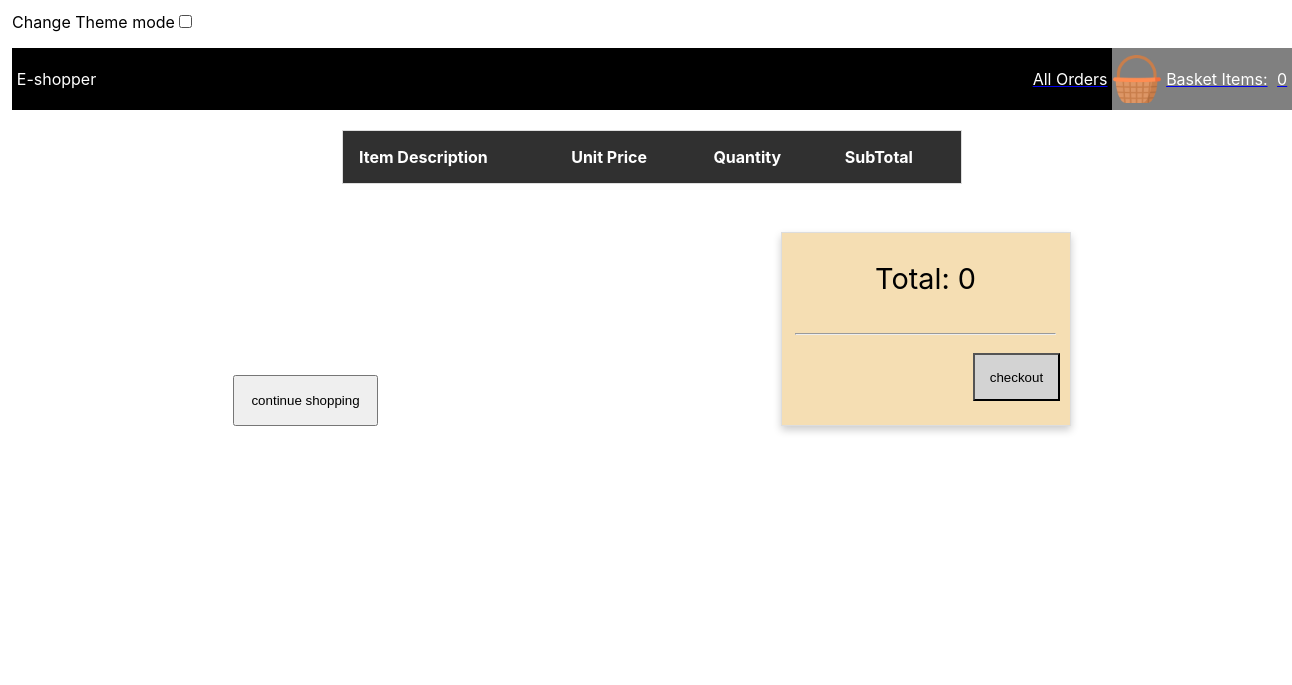
Test: App › should increase count by 1 when + button is clicked
This screenshot has width=1292, height=685.
Click the link "E-shopper": point(56, 79) [17,69,96,89]
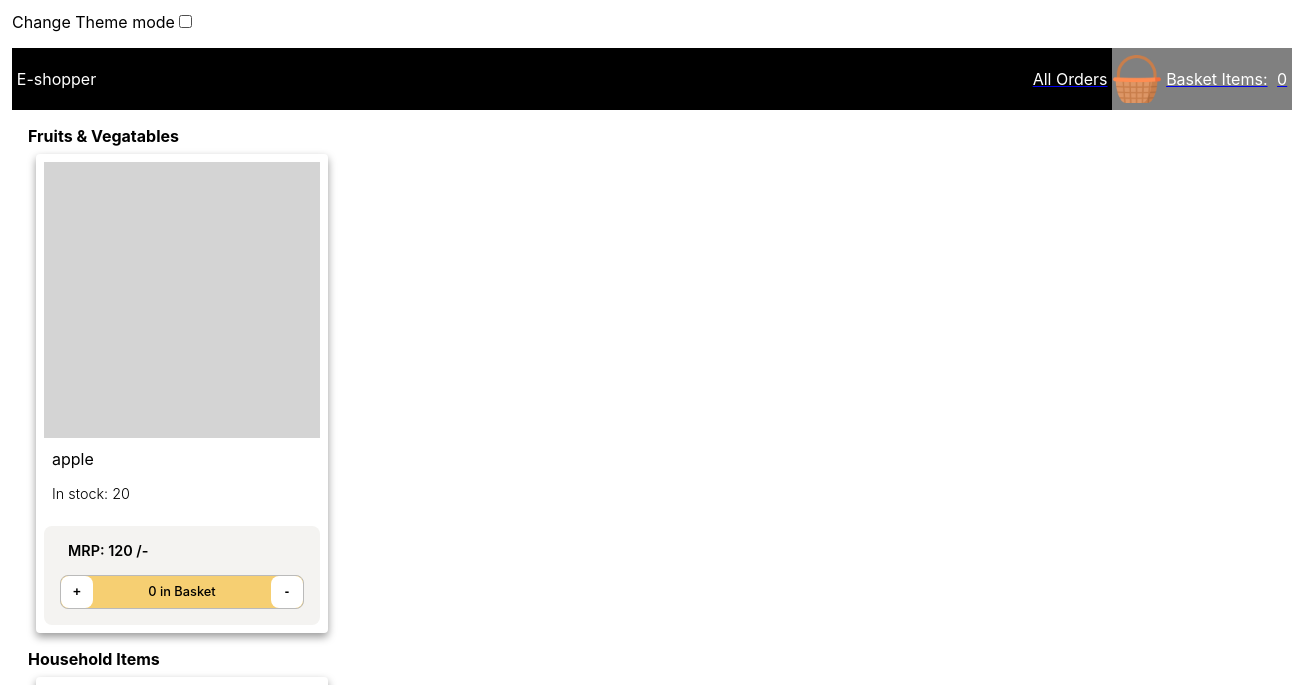
Click the button "+": point(77, 592) [61,576,93,608]
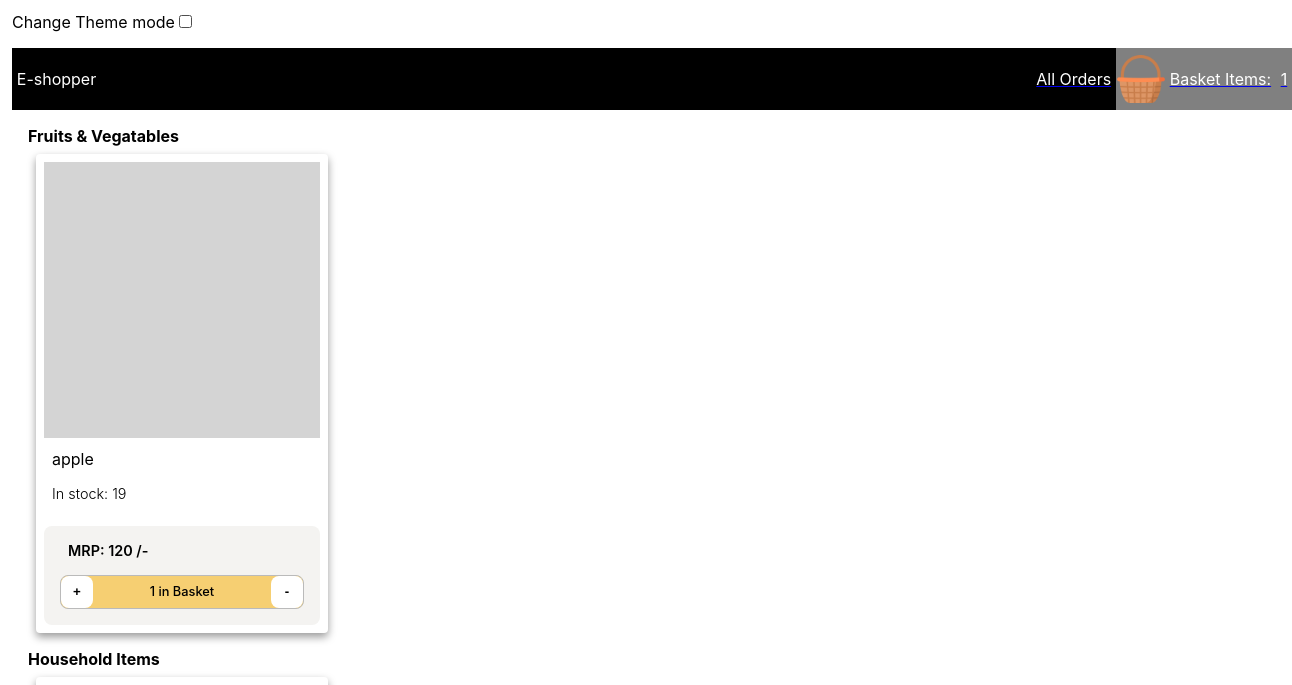
Now the text "1" is shown, box [1281,69,1287,89]
